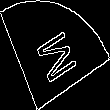M_SW: (29, 22, 81, 88)
